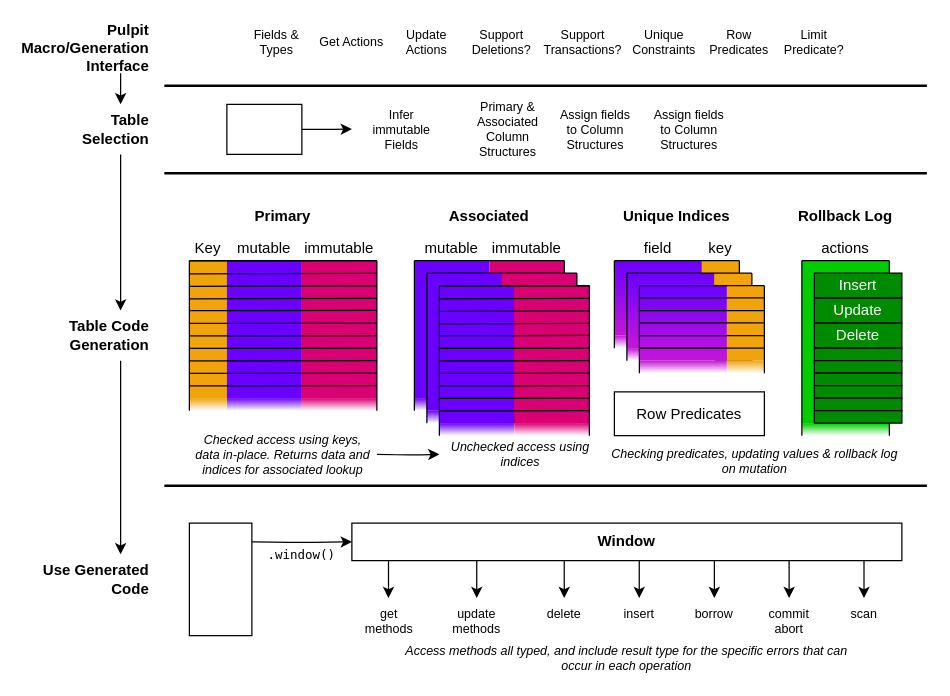
Image size: 950x696. Some labels were removed from this diagram. Here are the shapes that lost their labels. From the top down, the centre of each, then its label:
At pixel 264 128: "Selector".
At pixel 220 579: "Table".
